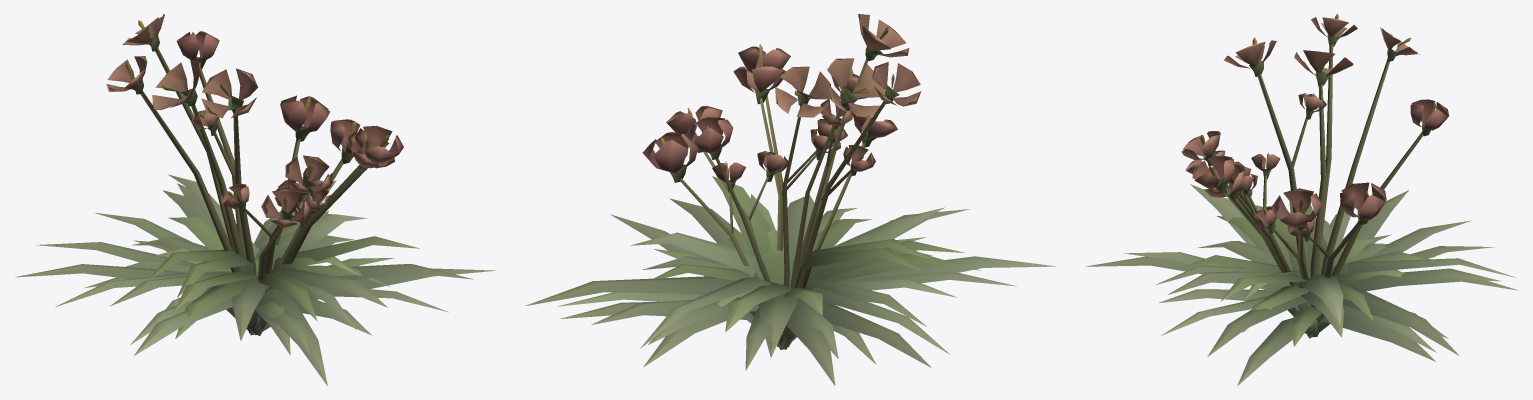
Rendered from pennon-windcups-middle.glb.
The picture shows the model from 3 angles, left to right: view 1: azimuth 30°, elevation 25°; view 2: azimuth 150°, elevation 25°; view 3: azimuth 270°, elevation 25°; orthographic projection. The views are drawn at different scales.
Parts seen in each view (by area): view 1: FoldedPennon3, FoldedPennon1, FoldedPennon2; view 2: FoldedPennon3, FoldedPennon2, FoldedPennon1; view 3: FoldedPennon3, FoldedPennon1, FoldedPennon2.
Part boxes in pixels (box(x1,y1,x2,y2)): FoldedPennon3: box(36, 31, 448, 385); FoldedPennon1: box(55, 56, 495, 355); FoldedPennon2: box(15, 14, 473, 355); FoldedPennon3: box(525, 14, 969, 385); FoldedPennon2: box(591, 66, 1056, 367); FoldedPennon1: box(557, 44, 1016, 370); FoldedPennon3: box(1085, 37, 1518, 361); FoldedPennon1: box(1159, 14, 1500, 385); FoldedPennon2: box(1123, 27, 1516, 356).
Bounding box in the file's own units: 0.5913 × 0.4395 × 0.6139.
